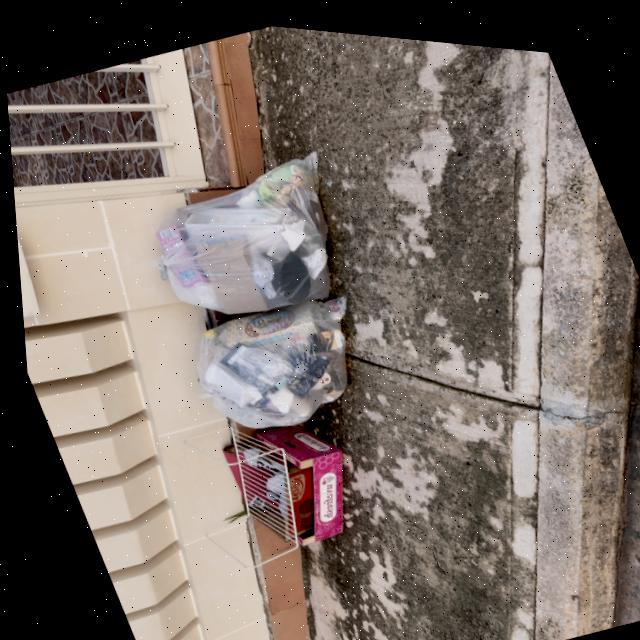Organic Waste -White Bag-: (118, 127, 374, 347), (167, 268, 389, 455)
Other: (210, 407, 370, 572)
